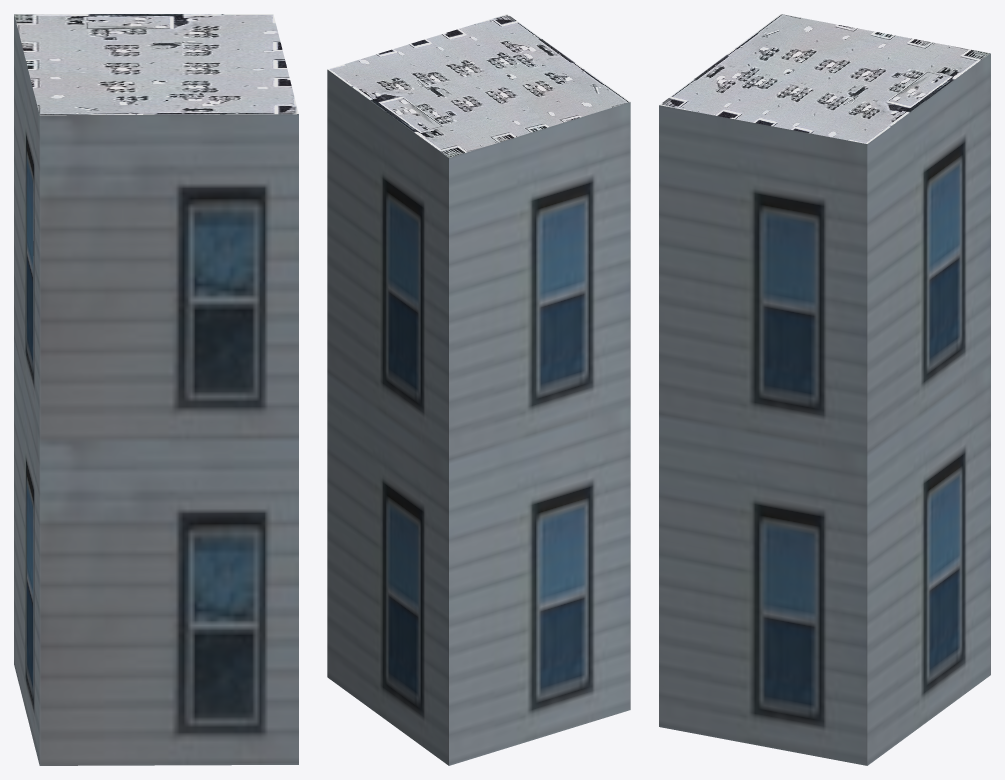
File: ResTex__2543.fbx
3 renders of one model, left to right at view 1: azimuth 30°, elevation 25°; view 2: azimuth 150°, elevation 25°; view 3: azimuth 270°, elevation 25°, orthographic. The views are drawn at different scales.
Visible parts, largest first — view 1: CityEngineMaterial_18_m, CityEngineMaterial_8_m; view 2: CityEngineMaterial_18_m, CityEngineMaterial_8_m; view 3: CityEngineMaterial_18_m, CityEngineMaterial_8_m.
Part boxes in pixels (<box>): CityEngineMaterial_18_m: <box>14,14,298,765</box>; CityEngineMaterial_8_m: <box>14,14,298,115</box>; CityEngineMaterial_18_m: <box>327,69,630,765</box>; CityEngineMaterial_8_m: <box>327,14,629,157</box>; CityEngineMaterial_18_m: <box>659,53,990,765</box>; CityEngineMaterial_8_m: <box>659,14,990,143</box>.
Size of the model in its own units: 2.69 by 6 by 2.9.
Materials: 2 (2 with a texture image).
